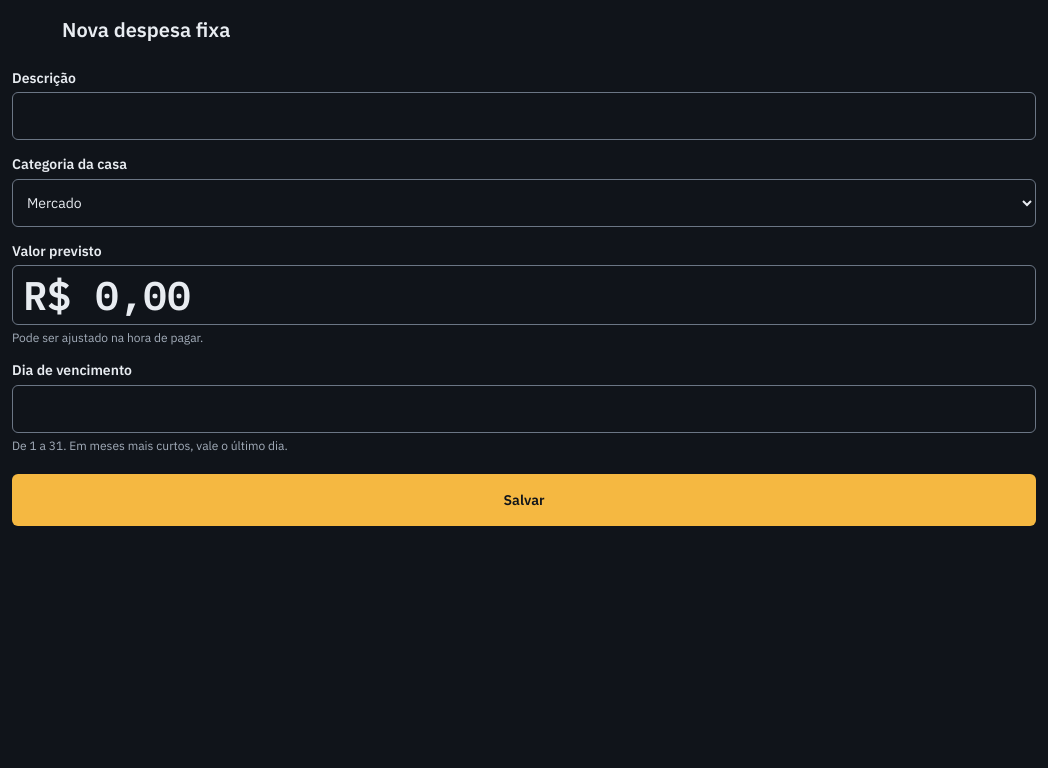
Test case: DespesaFixa: validação › valor zero mostra o erro do valor e não salva
In the field labelled "Descrição": (524, 116) [12,92,1036,140], type "Internet"
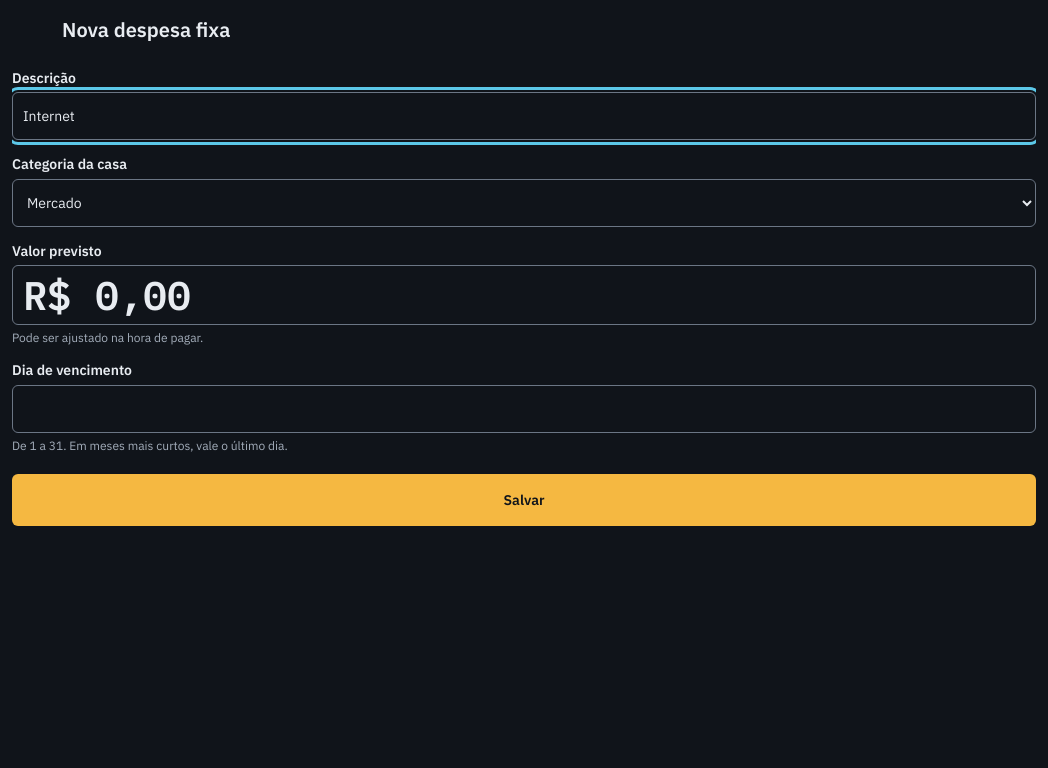
In the field labelled "Dia de vencimento": (524, 409) [12,385,1036,433], type "5"
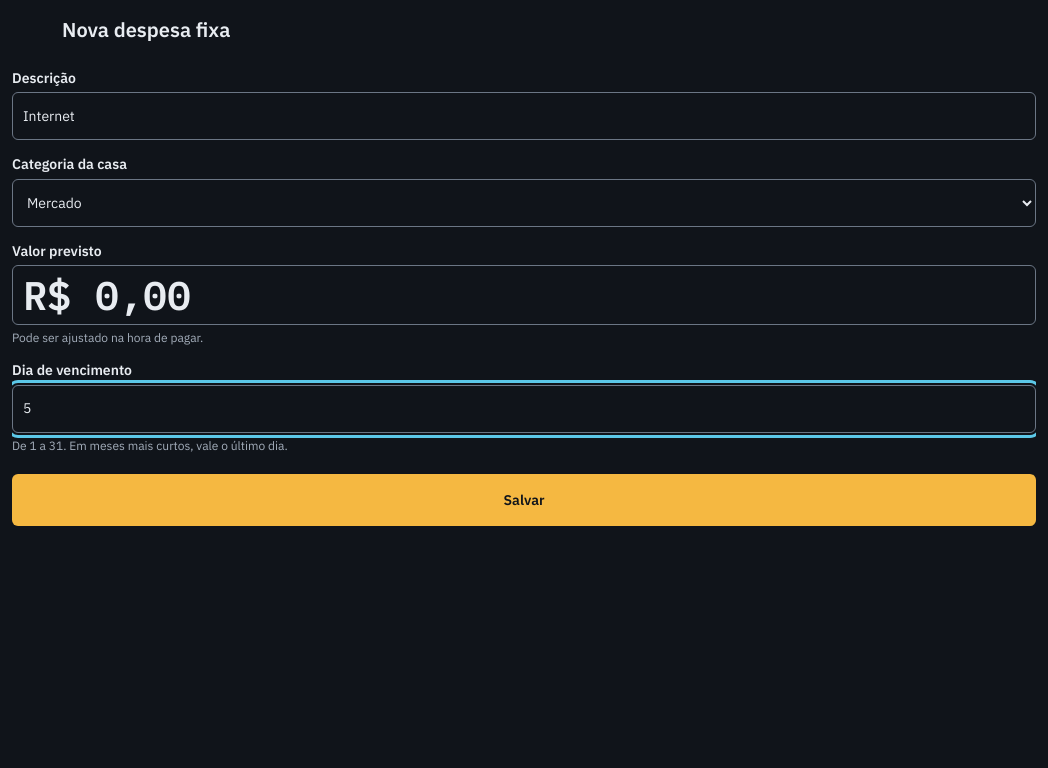
Click the button "Salvar": (524, 500) [12,474,1036,526]
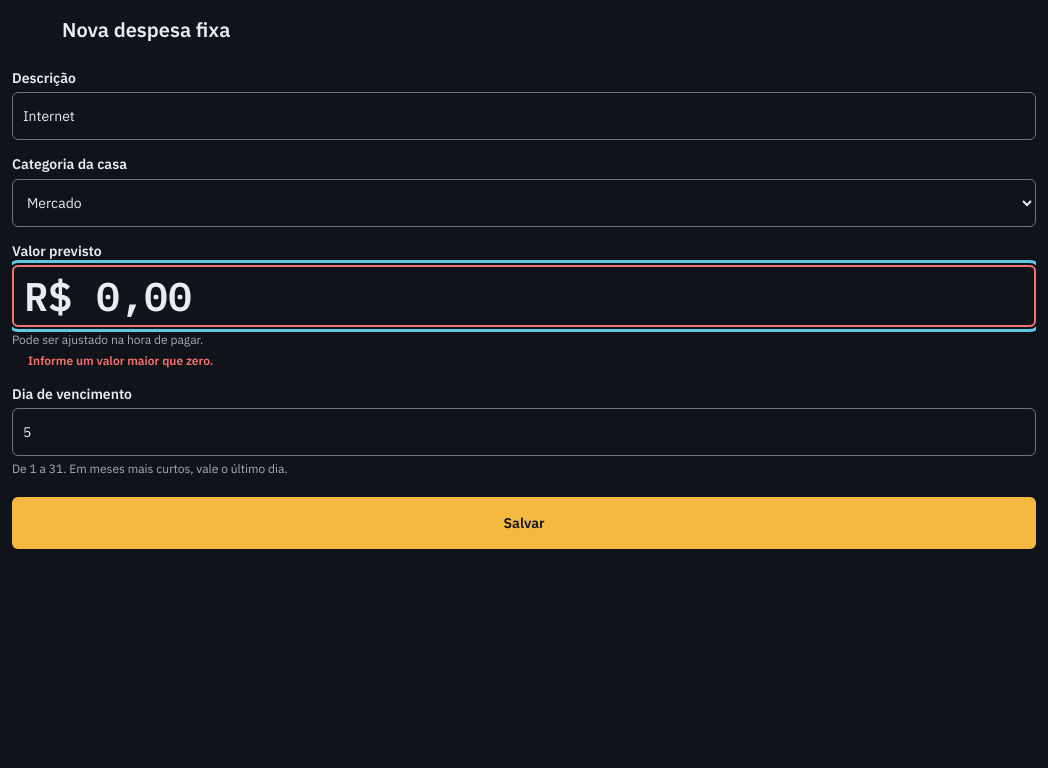
Expected: the text "Informe um valor maior que zero." is shown, [12,353,213,368]
